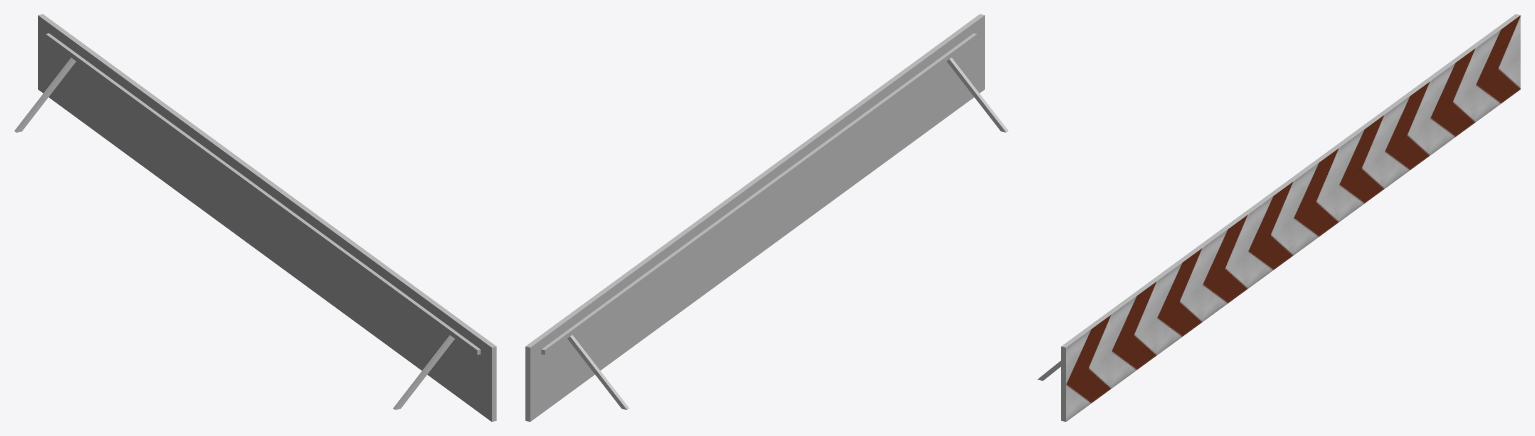
File: Chevron_Sign_Small.fbx
3 views of the same model, side by side, from view 1: azimuth 30°, elevation 25°; view 2: azimuth 150°, elevation 25°; view 3: azimuth 330°, elevation 25° (orthographic).
Visible parts, largest first — view 1: Chevron_Sign_Small; view 2: Chevron_Sign_Small; view 3: Chevron_Sign_Small.
Boxes of the visible parts, x1,y1,x2,y2 form: Chevron_Sign_Small: [14, 14, 496, 421]; Chevron_Sign_Small: [525, 14, 1008, 421]; Chevron_Sign_Small: [1037, 14, 1520, 421].
Size of the model in its own units: 92.19 by 100 by 1108.
